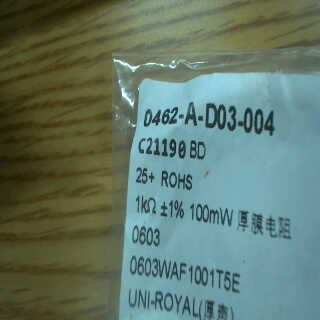1kR: (132, 193, 160, 216)
